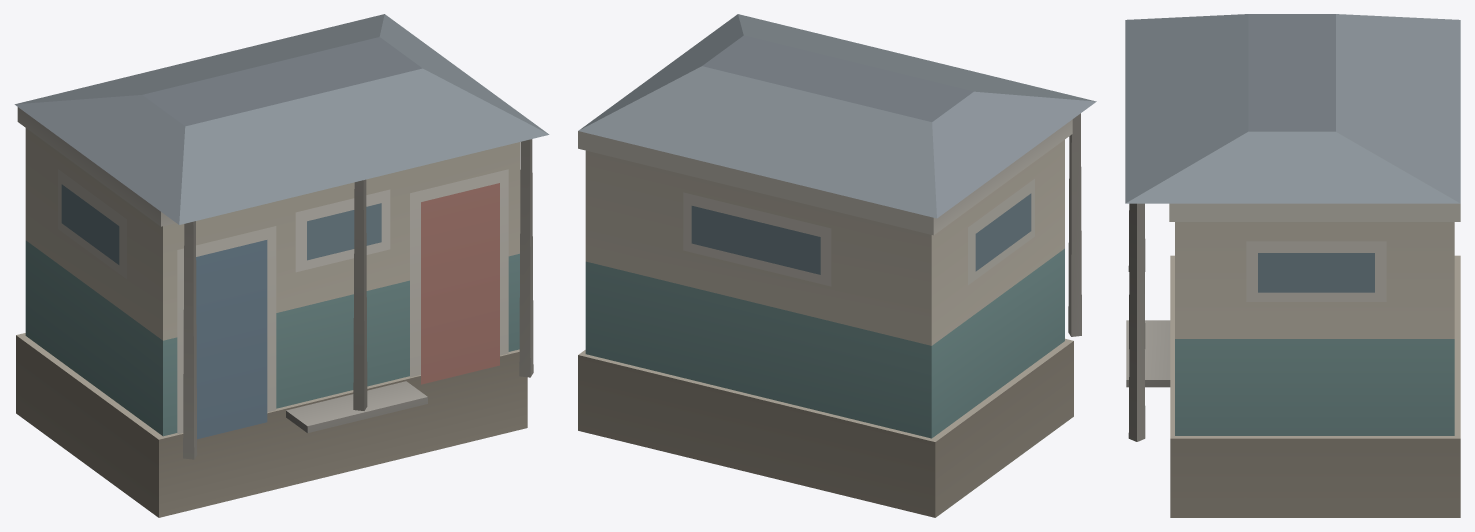
The model's file is toilets.lod2.glb.
3 views of the same model, side by side, from view 1: azimuth 30°, elevation 25°; view 2: azimuth 150°, elevation 25°; view 3: azimuth 270°, elevation 25° (orthographic). The views are drawn at different scales.
Size of the model in its own units: 4.46 by 4 by 3.44.
